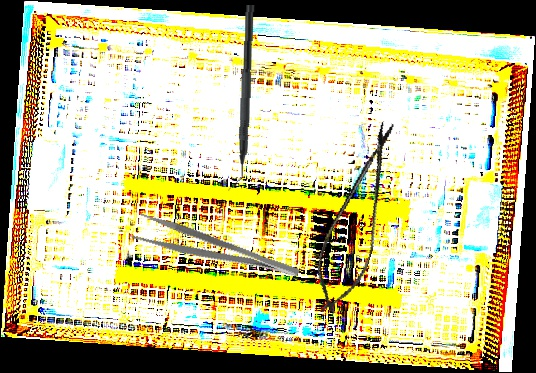Chopper: (226, 4, 255, 192)
Dressing Forceps: (131, 210, 302, 294)
Micro Scissor: (304, 114, 410, 321)
